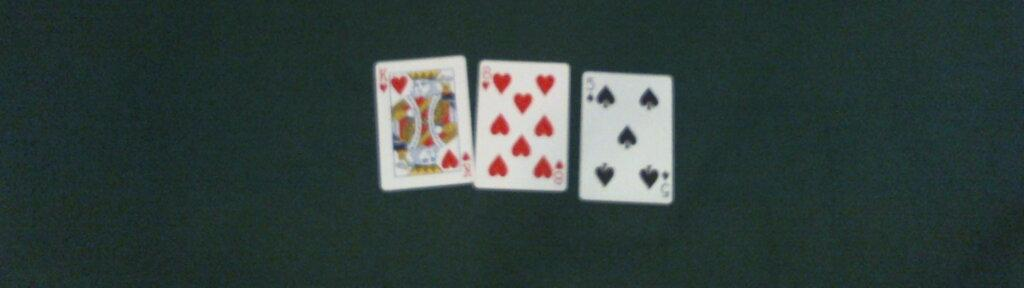eight: (474, 57, 571, 191)
five: (576, 70, 674, 206)
king: (372, 55, 478, 191)
